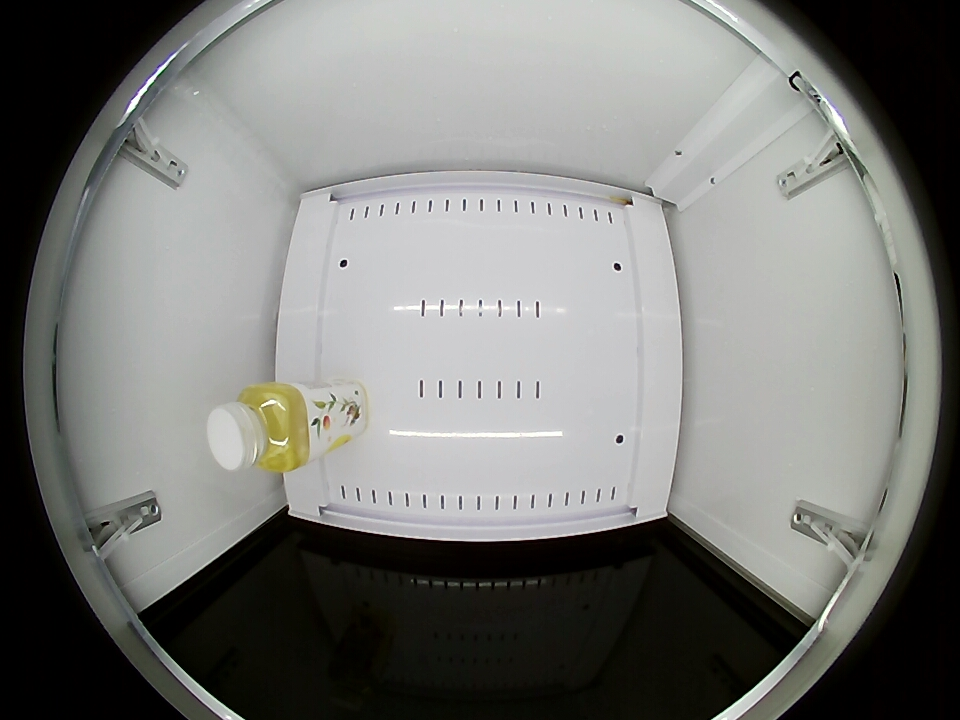chapai2: (208, 383, 311, 474)
